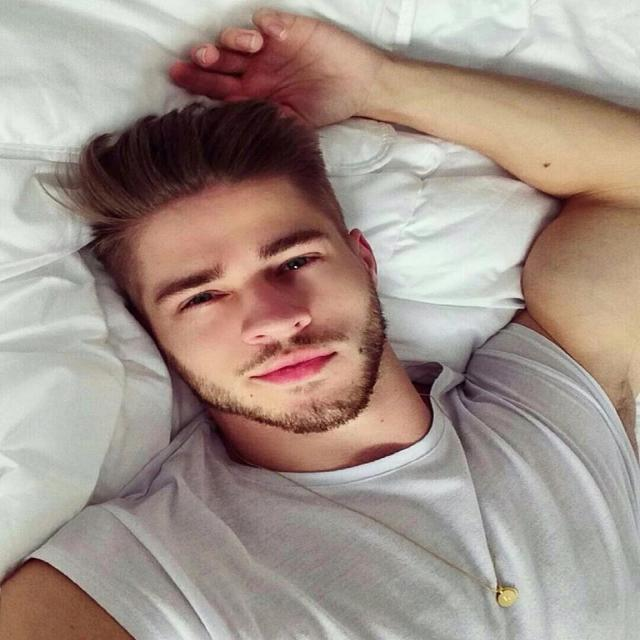earlobe: (348, 228, 378, 290)
